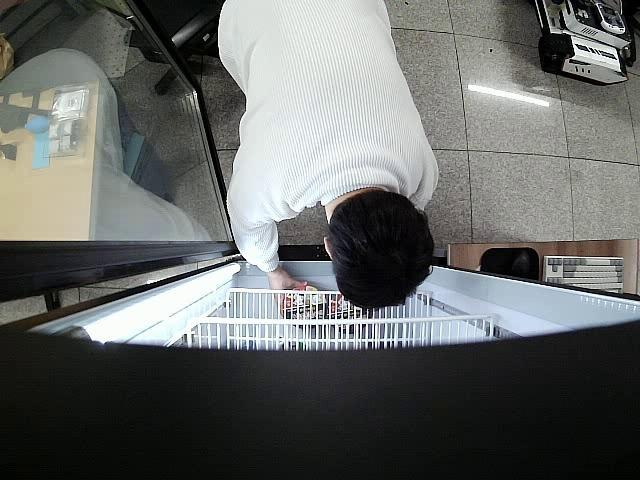07_buldak_L: (282, 284, 329, 328)
